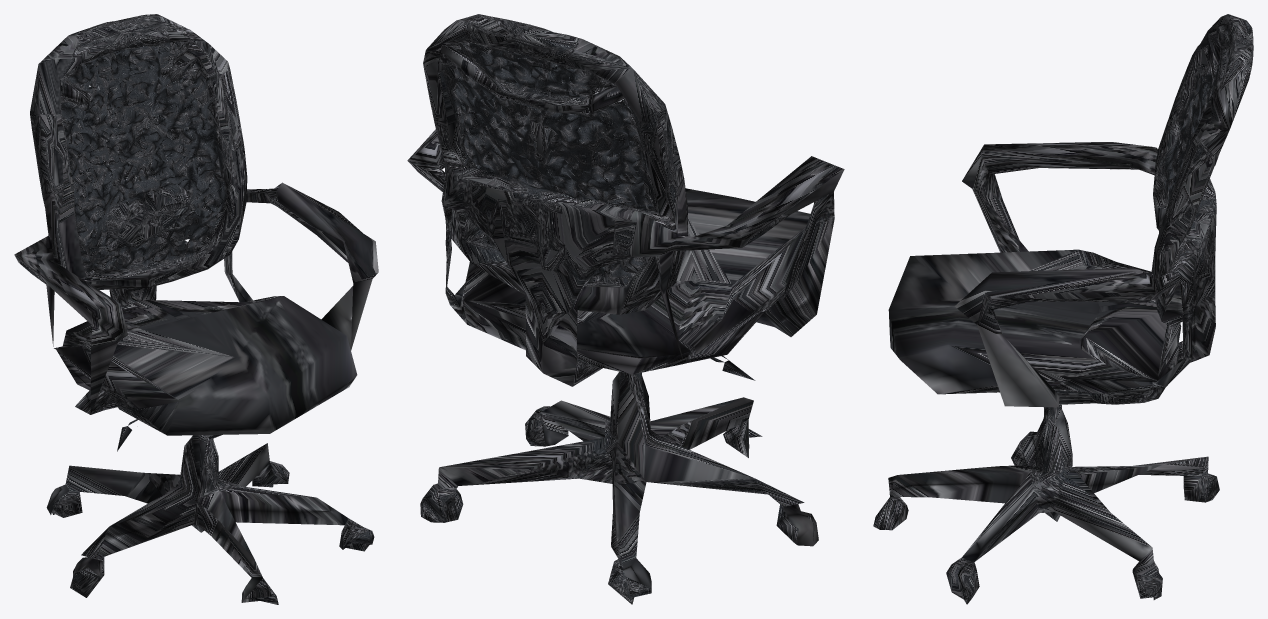
File: office_chair.glb
The picture shows the model from 3 angles, left to right: view 1: azimuth 30°, elevation 25°; view 2: azimuth 150°, elevation 25°; view 3: azimuth 270°, elevation 25°; orthographic projection. The views are drawn at different scales.
Visible parts, largest first — view 1: tripo_node_6f220446-f9dd-4b2c-9e83-00ecb9080e6a; view 2: tripo_node_6f220446-f9dd-4b2c-9e83-00ecb9080e6a; view 3: tripo_node_6f220446-f9dd-4b2c-9e83-00ecb9080e6a.
Part boxes in pixels (x1,y1,x2,y2): tripo_node_6f220446-f9dd-4b2c-9e83-00ecb9080e6a: [14, 14, 378, 604]; tripo_node_6f220446-f9dd-4b2c-9e83-00ecb9080e6a: [407, 14, 844, 604]; tripo_node_6f220446-f9dd-4b2c-9e83-00ecb9080e6a: [873, 14, 1253, 604].
Size of the model in its own units: 0.6267 by 0.9751 by 0.6652.
1 material, 1 textured.
